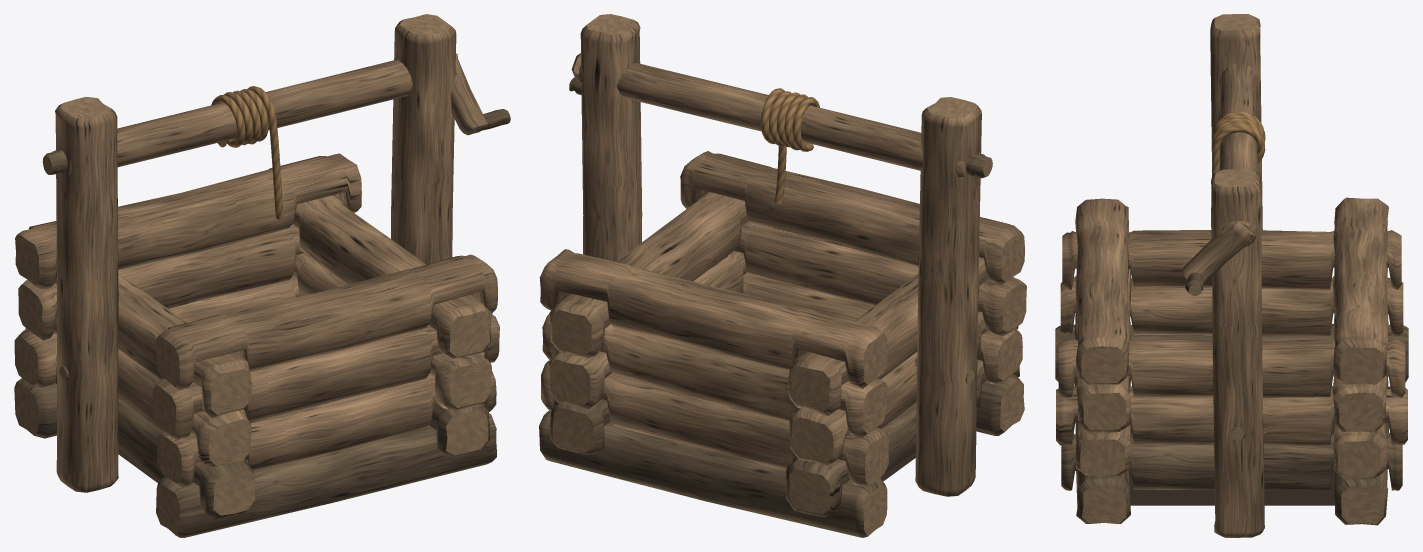
Rendered from timber_well.glb.
The picture shows the model from 3 angles, left to right: view 1: azimuth 30°, elevation 25°; view 2: azimuth 150°, elevation 25°; view 3: azimuth 270°, elevation 25°; orthographic projection. The views are drawn at different scales.
Visible parts, largest first — view 1: Rus - Timber Well mesh; view 2: Rus - Timber Well mesh; view 3: Rus - Timber Well mesh.
Part boxes in pixels (x1,y1,x2,y2): Rus - Timber Well mesh: (14, 14, 510, 537); Rus - Timber Well mesh: (539, 14, 1026, 537); Rus - Timber Well mesh: (1055, 14, 1408, 537).
Bounding box in the file's own units: 2.41 × 1.99 × 1.8.
Materials: 5 (4 with a texture image).
